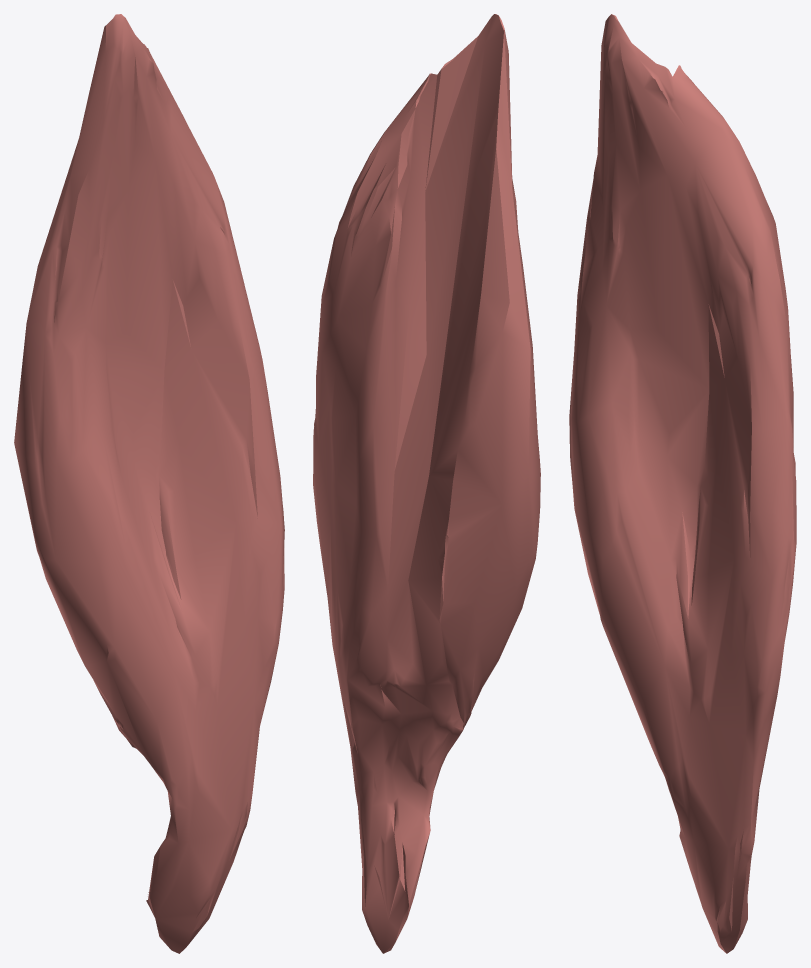
File: fma37669_fj1486m.glb
3 renders of one model, left to right at view 1: azimuth 30°, elevation 25°; view 2: azimuth 150°, elevation 25°; view 3: azimuth 330°, elevation 25°, orthographic. The views are drawn at different scales.
Visible parts, largest first — view 1: FMA37669_FJ1486M; view 2: FMA37669_FJ1486M; view 3: FMA37669_FJ1486M.
Boxes of the visible parts, <box> form: FMA37669_FJ1486M: <box>14,14,284,953</box>; FMA37669_FJ1486M: <box>313,14,540,953</box>; FMA37669_FJ1486M: <box>569,14,796,953</box>.
Bounding box in the file's own units: 0.0587 × 0.2248 × 0.0258.
